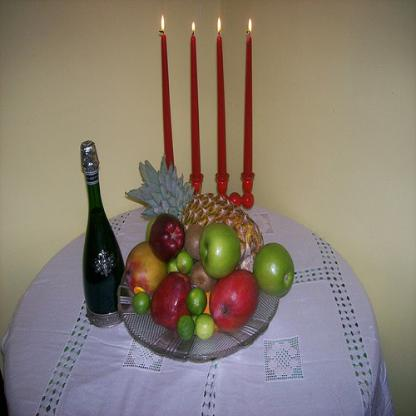bottle: (80, 136, 124, 328)
diningtable: (0, 187, 394, 415)
